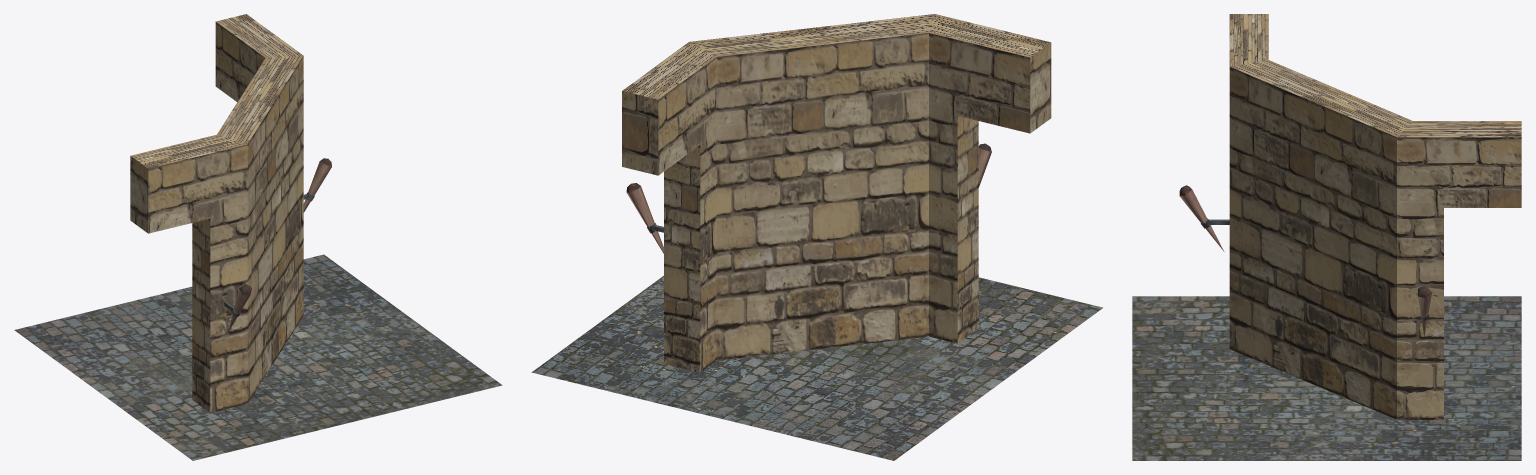
The model's file is 1-0-SESoul.fbx.
3 renders of one model, left to right at view 1: azimuth 30°, elevation 25°; view 2: azimuth 150°, elevation 25°; view 3: azimuth 270°, elevation 25°, orthographic. The views are drawn at different scales.
Parts seen in each view (by area): view 1: Plane, Cube_2; view 2: Cube_2, Plane, Pyramid_1; view 3: Cube_2, Plane, Pyramid_1_2.
Boxes of the visible parts, x1,y1,x2,y2 form: Plane: (14, 254, 502, 460); Cube_2: (130, 14, 303, 412); Cube_2: (622, 14, 1051, 372); Plane: (531, 276, 1102, 460); Pyramid_1: (627, 186, 663, 253); Cube_2: (1229, 14, 1521, 419); Plane: (1132, 296, 1521, 460); Pyramid_1_2: (1180, 189, 1224, 251).
Bounding box in the file's own units: 10 × 8 × 10.
5 materials, 5 textured.
